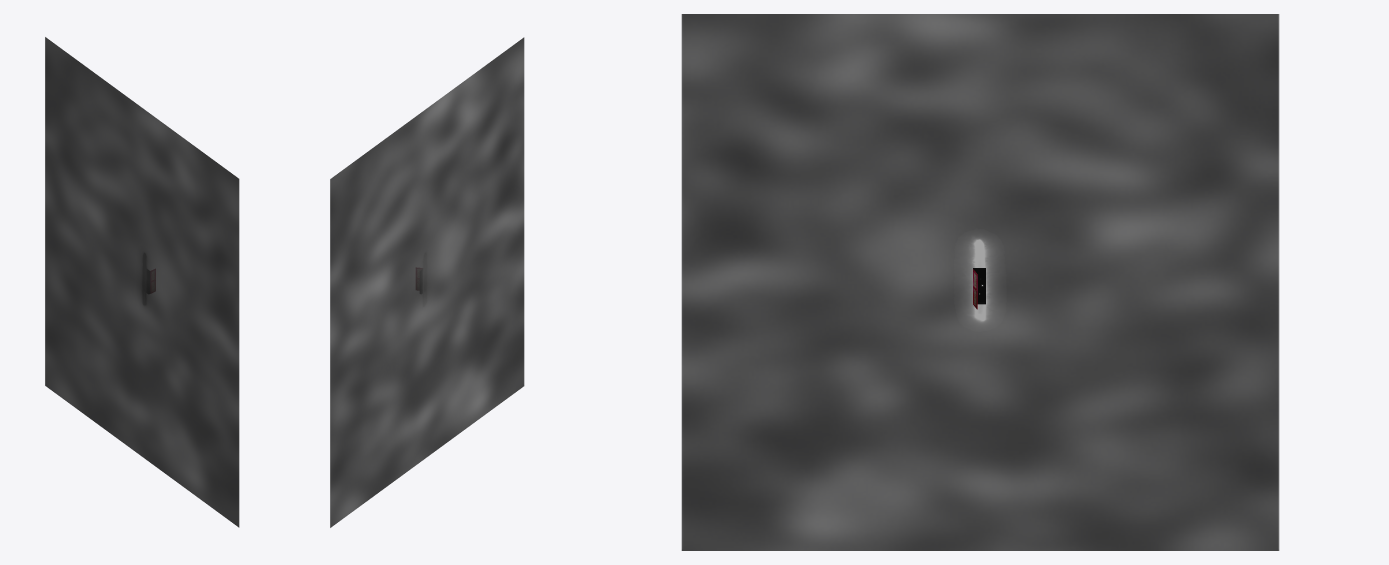
Rendered from door_keelung.glb.
The picture shows the model from 3 angles, left to right: view 1: azimuth 30°, elevation 25°; view 2: azimuth 150°, elevation 25°; view 3: azimuth 270°, elevation 25°; orthographic projection. The views are drawn at different scales.
Visible parts, largest first — view 1: transparent_disortion; view 2: transparent_disortion; view 3: transparent_disortion, sword_light.
Boxes of the visible parts, <box> form: transparent_disortion: <box>45,37,239,527</box>; transparent_disortion: <box>330,37,524,527</box>; transparent_disortion: <box>681,14,1279,550</box>; sword_light: <box>963,236,997,325</box>.
Size of the model in its own units: 4.08 by 108 by 144.
5 materials, 4 textured.
